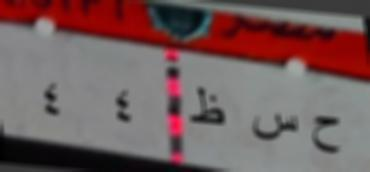4: (36, 78, 67, 122), (110, 84, 136, 130)
7aa: (310, 103, 343, 159)
Thaa: (184, 82, 228, 135)
seen: (250, 110, 300, 152)
